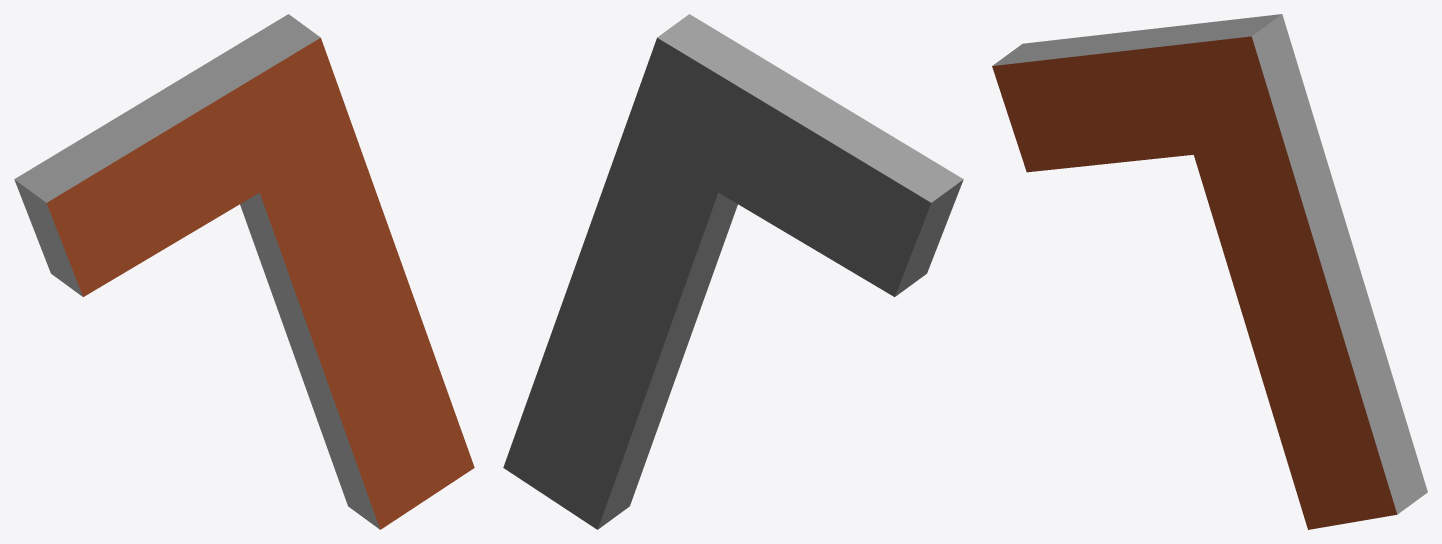
File: construction_6430_assumed_A_Casa_h6m.obj
3 views of the same model, side by side, from view 1: azimuth 30°, elevation 25°; view 2: azimuth 150°, elevation 25°; view 3: azimuth 330°, elevation 25° (orthographic). The views are drawn at different scales.
Visible parts, largest first — view 1: construction_6430_assumed_A_Casa; view 2: construction_6430_assumed_A_Casa; view 3: construction_6430_assumed_A_Casa.
Boxes of the visible parts, x1,y1,x2,y2 form: construction_6430_assumed_A_Casa: (14, 14, 474, 529); construction_6430_assumed_A_Casa: (503, 14, 963, 529); construction_6430_assumed_A_Casa: (992, 14, 1427, 529).
Size of the model in its own units: 45.89 by 51.91 by 6.
